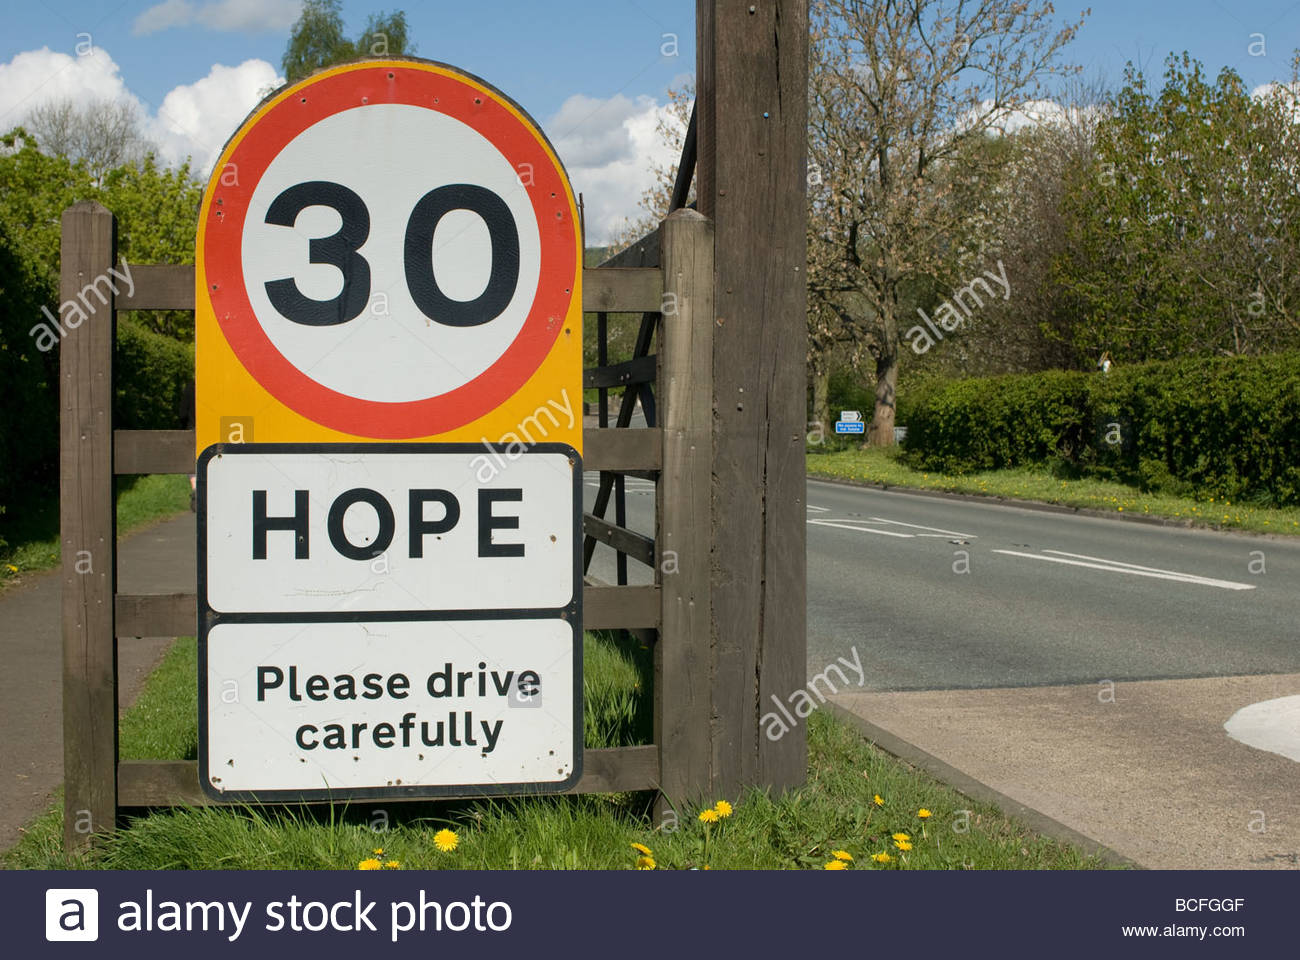Speed_limit_30km: (204, 58, 576, 431)
